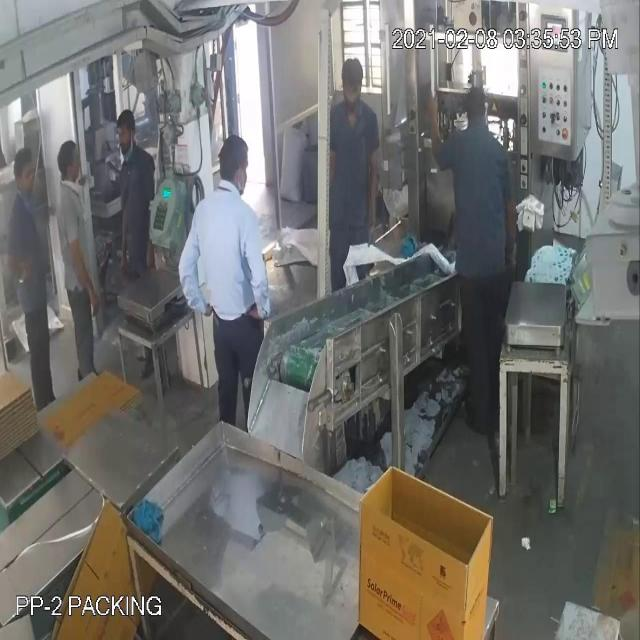No_Gloves: (18, 80, 512, 276)
